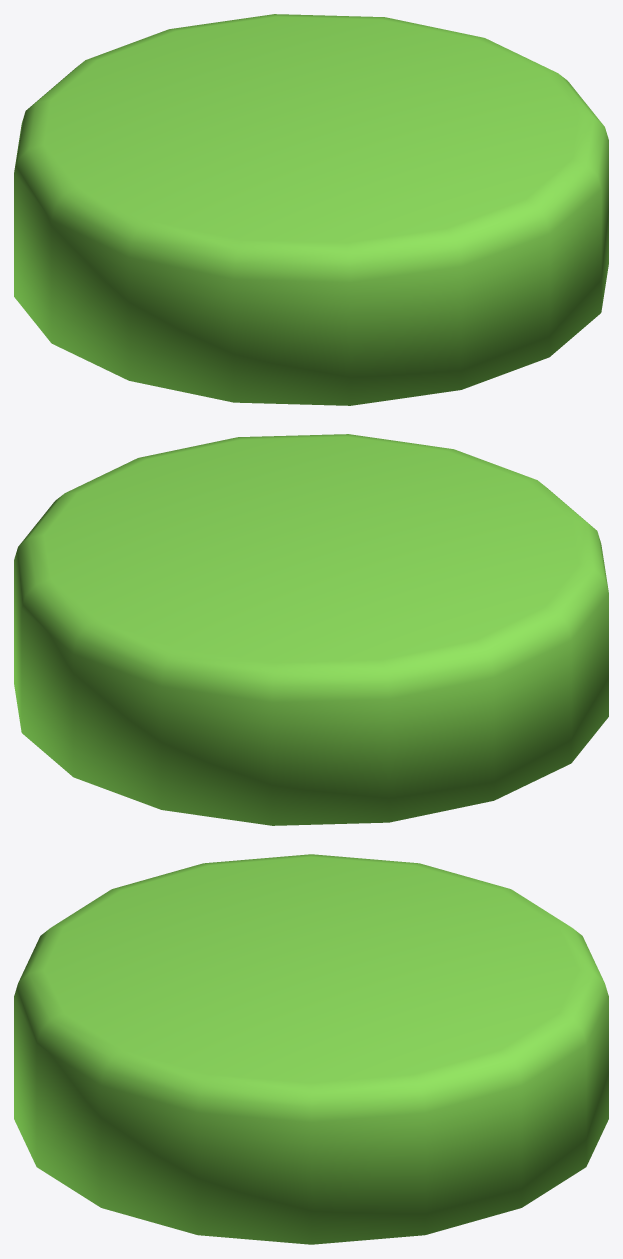
File: Button_Green.fbx
The picture shows the model from 3 angles, top to bottom: view 1: azimuth 30°, elevation 25°; view 2: azimuth 150°, elevation 25°; view 3: azimuth 270°, elevation 25°; orthographic projection.
Parts seen in each view (by area): view 1: Button_Green; view 2: Button_Green; view 3: Button_Green.
Boxes of the visible parts, x1,y1,x2,y2 form: Button_Green: (14,14,608,405); Button_Green: (14,434,608,825); Button_Green: (14,854,608,1244).
Bounding box in the file's own units: 0.7224 × 0.1996 × 0.7224.
